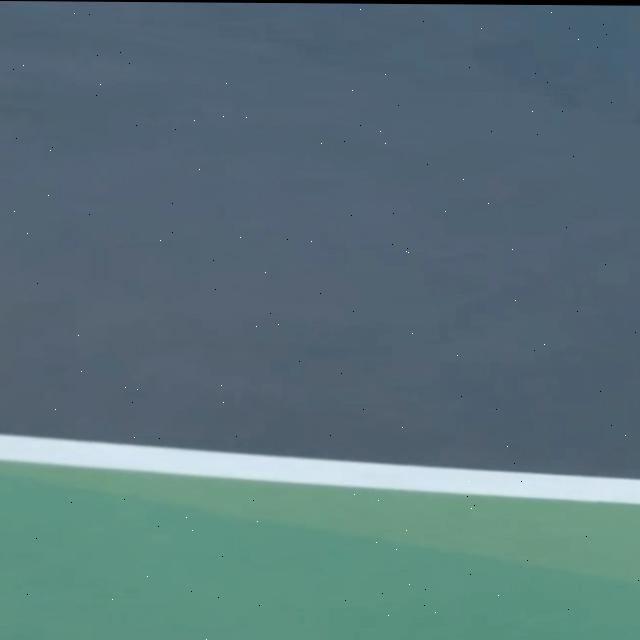right: (0, 432, 640, 502)
